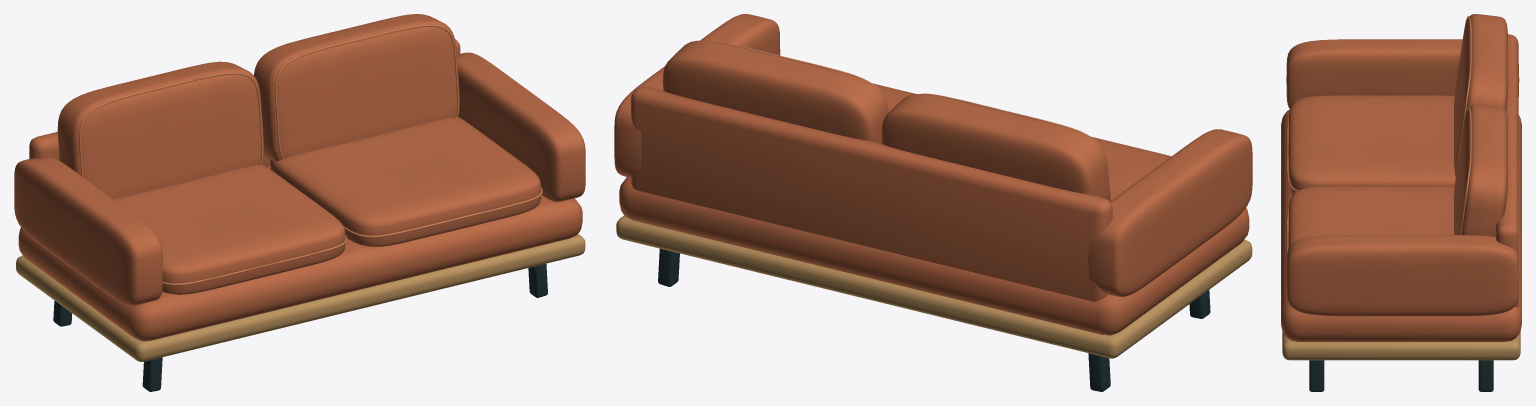
File: sofa.glb
3 views of the same model, side by side, from view 1: azimuth 30°, elevation 25°; view 2: azimuth 150°, elevation 25°; view 3: azimuth 270°, elevation 25° (orthographic). The views are drawn at different scales.
Parts seen in each view (by area): view 1: crowned seat cushion.001, reclined back cushion.001, reclined back cushion, upholstered lower shell, crowned seat cushion, soft arm bolster, floating bronze frame, soft arm bolster.001, back cushion tailored welt.001, fitted upholstered back support, back cushion tailored welt, seat stitched welt.001 (+3 smaller); view 2: fitted upholstered back support, upholstered lower shell, soft arm bolster, floating bronze frame, reclined back cushion, reclined back cushion.001, soft arm bolster.001, crowned seat cushion, tapered foot.001, tapered foot.003; view 3: soft arm bolster.001, crowned seat cushion, soft arm bolster, upholstered lower shell, crowned seat cushion.001, reclined back cushion.001, reclined back cushion, floating bronze frame, fitted upholstered back support, tapered foot.002, tapered foot.003, back cushion tailored welt (+1 smaller).
Boxes of the visible parts, x1,y1,x2,y2 form: crowned seat cushion.001: (270,117,540,246); reclined back cushion.001: (254,14,459,161); reclined back cushion: (57,61,264,199); upholstered lower shell: (18,195,582,341); crowned seat cushion: (113,165,345,294); soft arm bolster: (14,157,162,305); floating bronze frame: (16,234,585,361); soft arm bolster.001: (457,52,585,201); back cushion tailored welt.001: (275,24,459,159); fitted upholstered back support: (29,39,460,167); back cushion tailored welt: (79,72,263,176); seat stitched welt.001: (268,164,542,237); fitted upholstered back support: (631,86,1112,301); upholstered lower shell: (619,177,1249,335); soft arm bolster: (1088,129,1252,296); floating bronze frame: (616,215,1252,358); reclined back cushion: (881,94,1110,201); reclined back cushion.001: (662,40,888,143); soft arm bolster.001: (614,14,780,177); crowned seat cushion: (1091,136,1171,200); tapered foot.001: (1088,353,1110,391); tapered foot.003: (658,248,679,286); soft arm bolster.001: (1286,235,1519,316); crowned seat cushion: (1288,95,1455,195); soft arm bolster: (1286,39,1519,109); upholstered lower shell: (1281,109,1521,341); crowned seat cushion.001: (1288,186,1454,248); reclined back cushion.001: (1454,104,1507,236); reclined back cushion: (1454,14,1507,172); floating bronze frame: (1282,331,1520,360); fitted upholstered back support: (1496,34,1518,307); tapered foot.002: (1309,360,1324,391); tapered foot.003: (1478,360,1493,391); back cushion tailored welt: (1455,16,1471,176).
Bounding box in the file's own units: 3.8 × 1.75 × 1.82.
Materials: 4 (4 with a texture image).
